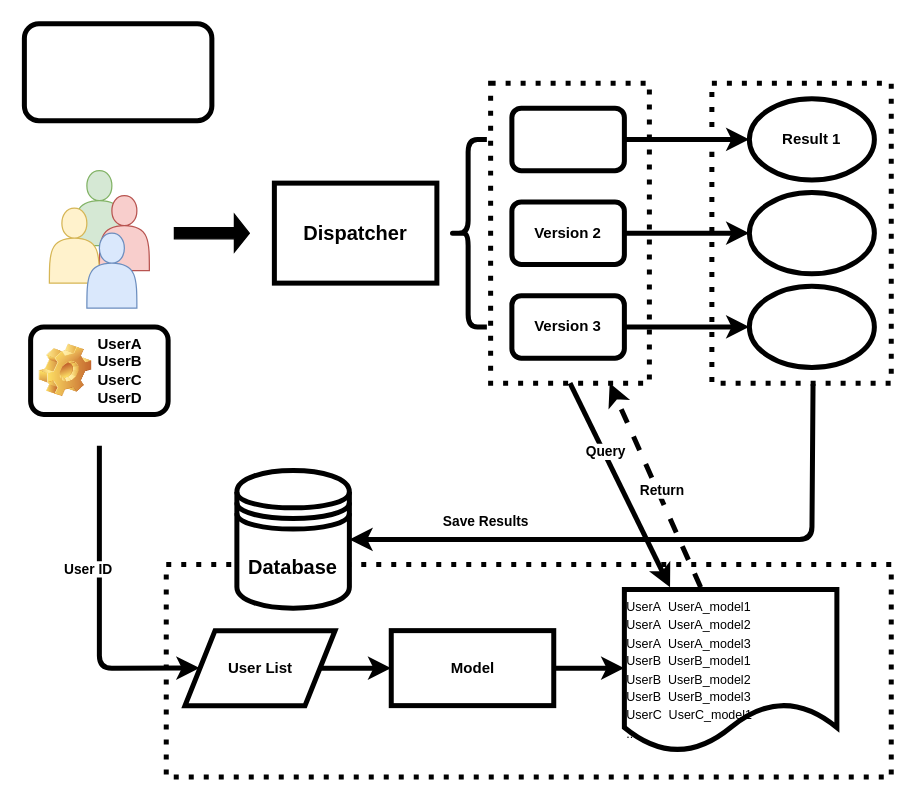
Some shapes in this 915 by 801 pixel diagram are drawn without their labels. The shapes that lost their labels are listed below. From the top down, each one's centre as x and y in pixels, then its label:
(x=117, y=71): A/B Test
(x=567, y=138): Version 1
(x=811, y=232): Result 2
(x=811, y=326): Result 3
